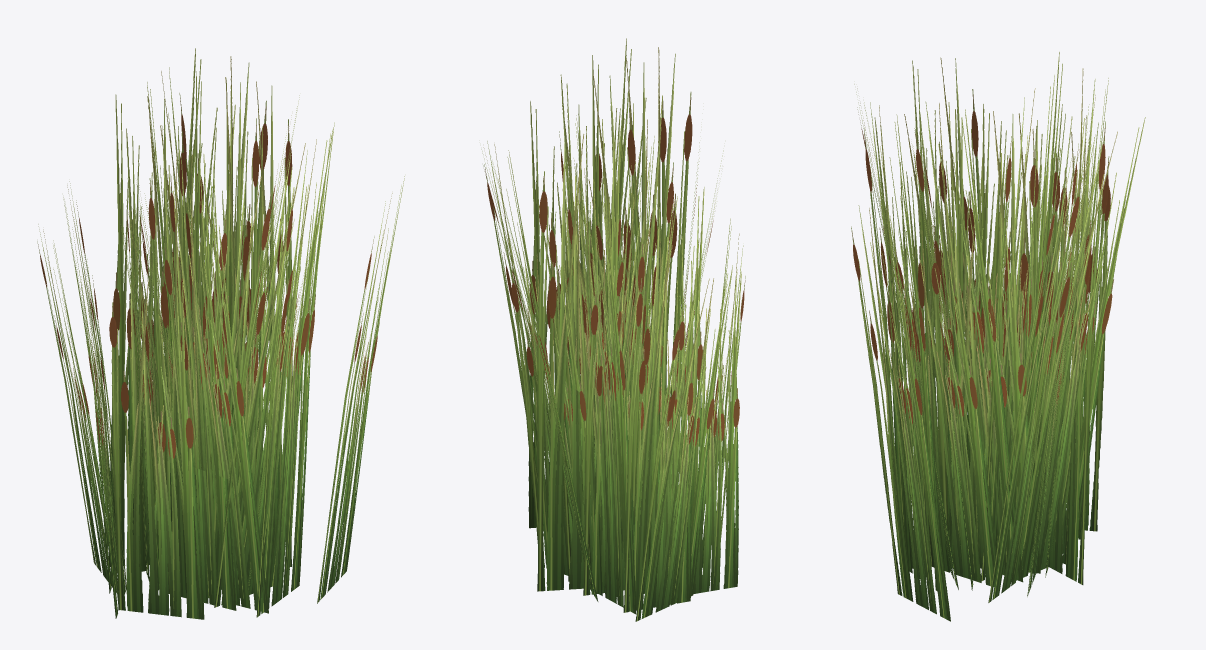
Rendered from Grass_Reeds_B.fbx.
The picture shows the model from 3 angles, left to right: view 1: azimuth 30°, elevation 25°; view 2: azimuth 150°, elevation 25°; view 3: azimuth 270°, elevation 25°; orthographic projection. The views are drawn at different scales.
Parts seen in each view (by area): view 1: Grass_Reeds_B_LOD0; view 2: Grass_Reeds_B_LOD0; view 3: Grass_Reeds_B_LOD0.
Boxes of the visible parts, left/top/right/bottom form: Grass_Reeds_B_LOD0: left=37, top=48, right=404, bottom=619; Grass_Reeds_B_LOD0: left=481, top=38, right=745, bottom=621; Grass_Reeds_B_LOD0: left=851, top=52, right=1145, bottom=621.
Size of what is drawn, in the model's own units: 1.2 by 1.71 by 1.14.
